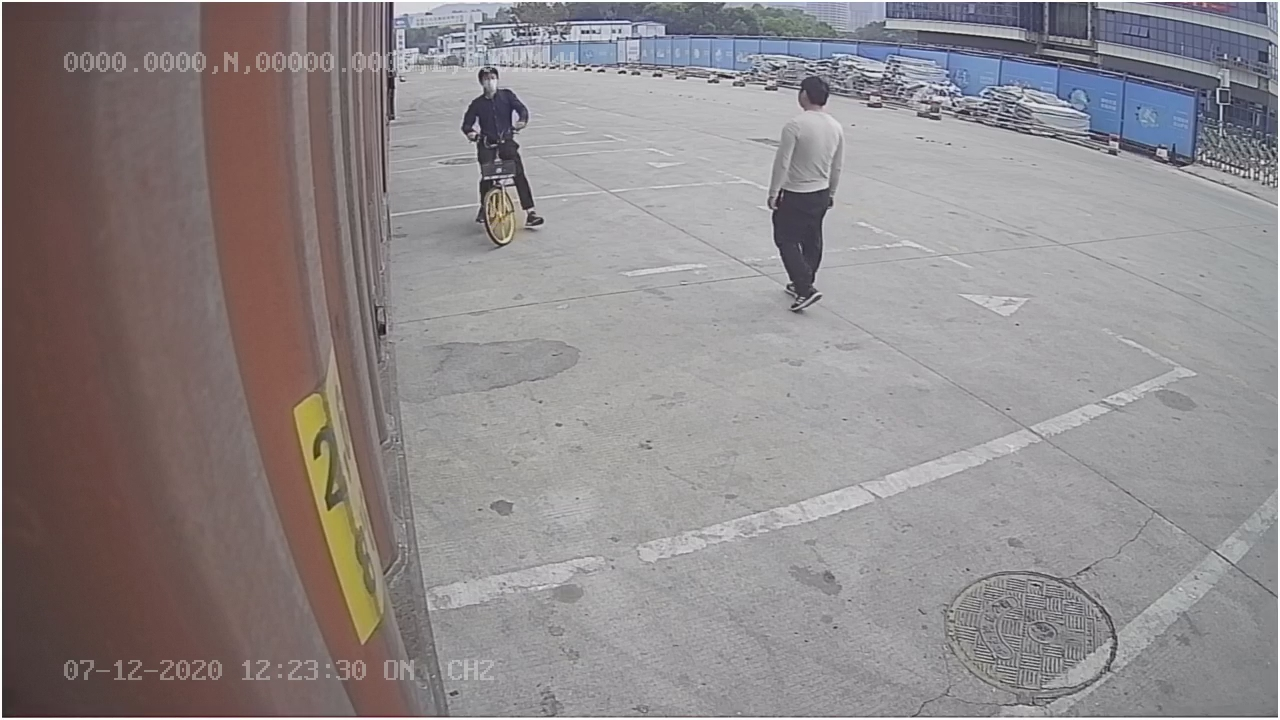person: (761, 73, 849, 319)
